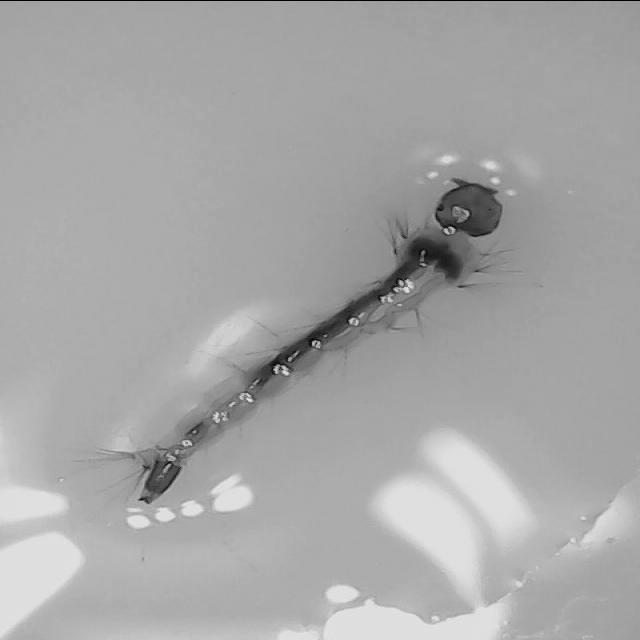larvas: (138, 185, 505, 505)
